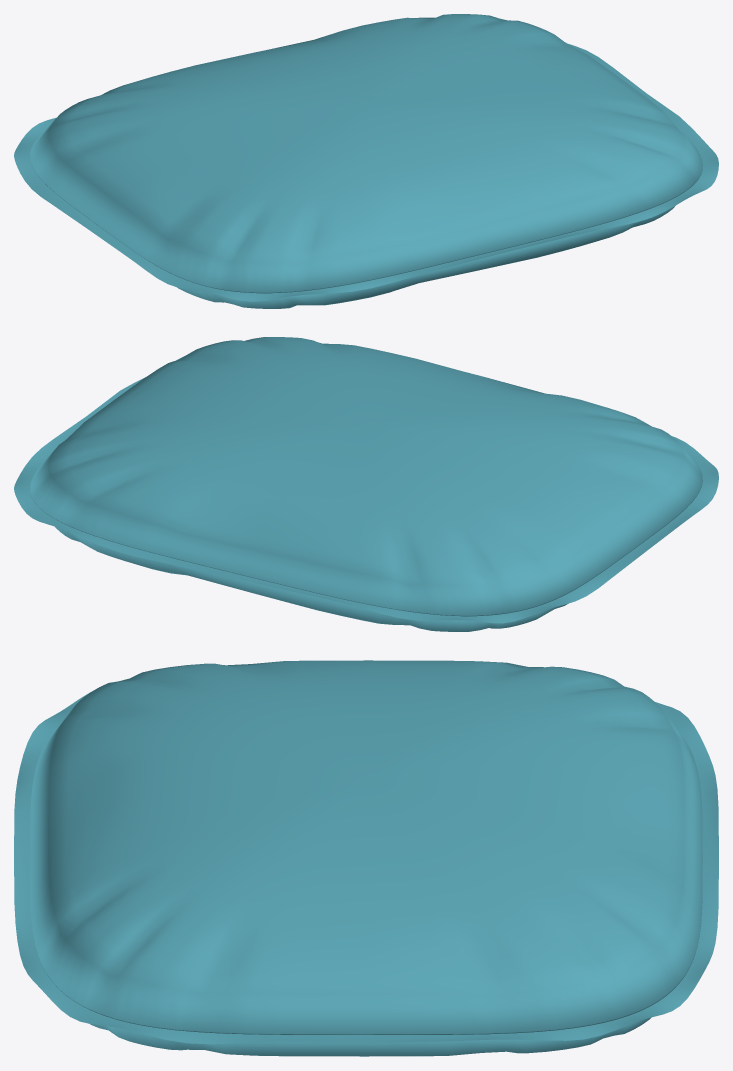
Rendered from pillow.glb.
The picture shows the model from 3 angles, top to bottom: view 1: azimuth 30°, elevation 25°; view 2: azimuth 150°, elevation 25°; view 3: azimuth 270°, elevation 25°; orthographic projection. The views are drawn at different scales.
Parts seen in each view (by area): view 1: Pillow, Pillow weld; view 2: Pillow, Pillow weld; view 3: Pillow, Pillow weld.
Part boxes in pixels (x1,y1,x2,y2): Pillow: (30,14,702,308); Pillow weld: (14,44,718,301); Pillow: (30,337,702,631); Pillow weld: (14,356,718,623); Pillow: (30,660,702,1056); Pillow weld: (14,692,718,1044).
Bounding box in the file's own units: 1.61 × 0.322 × 1.3.
